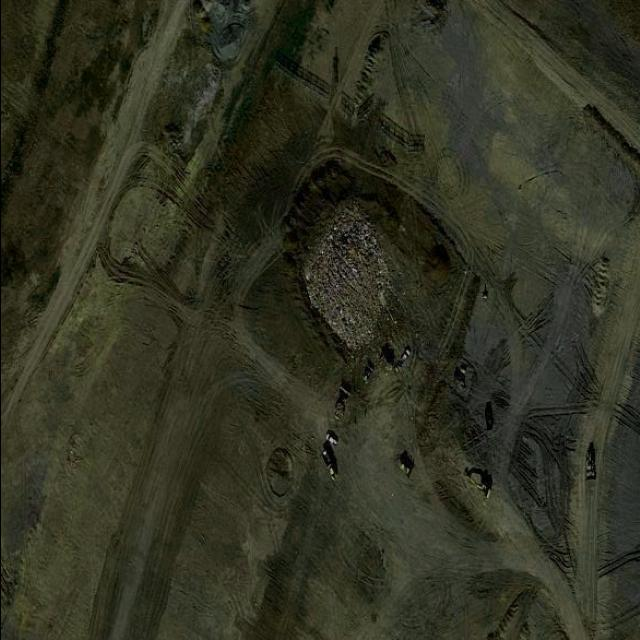dump_site: (303, 207, 391, 351)
